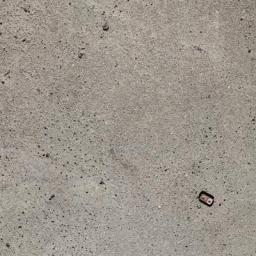FOD: (196, 189, 218, 209)
